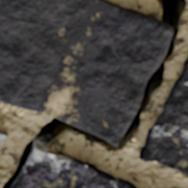brick: (0, 0, 172, 144), (140, 58, 187, 174), (12, 146, 135, 187), (0, 131, 6, 147)
crack: (0, 0, 187, 187)
